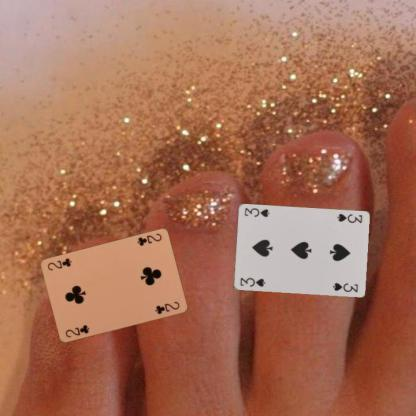2c: (62, 322, 91, 340), (134, 231, 164, 247)
3s: (237, 275, 266, 288), (334, 212, 363, 224)
